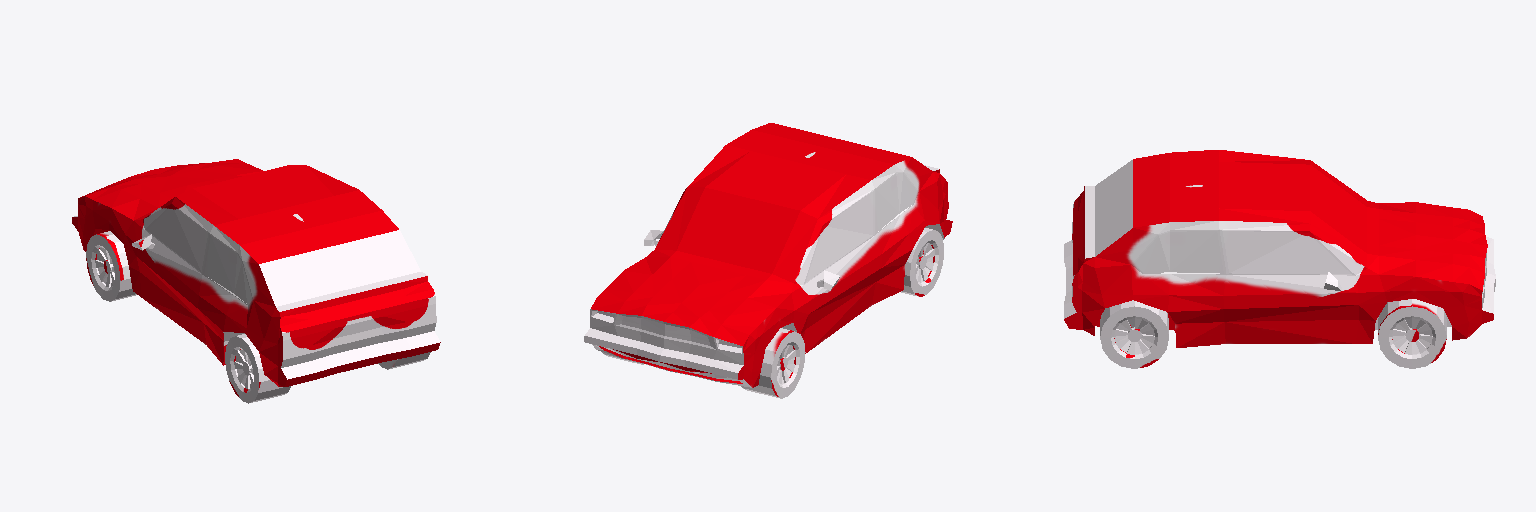
3 views of the same model, side by side, from view 1: azimuth 30°, elevation 25°; view 2: azimuth 150°, elevation 25°; view 3: azimuth 270°, elevation 25° (orthographic).
Visible parts, largest first — view 1: Cube; view 2: Cube; view 3: Cube.
Boxes of the visible parts, <box> form: Cube: <box>72,159,440,403</box>; Cube: <box>584,123,952,398</box>; Cube: <box>1064,150,1495,368</box>.
Bounding box in the file's own units: 2.49 × 1.78 × 4.92.
Materials: 1 (1 with a texture image).